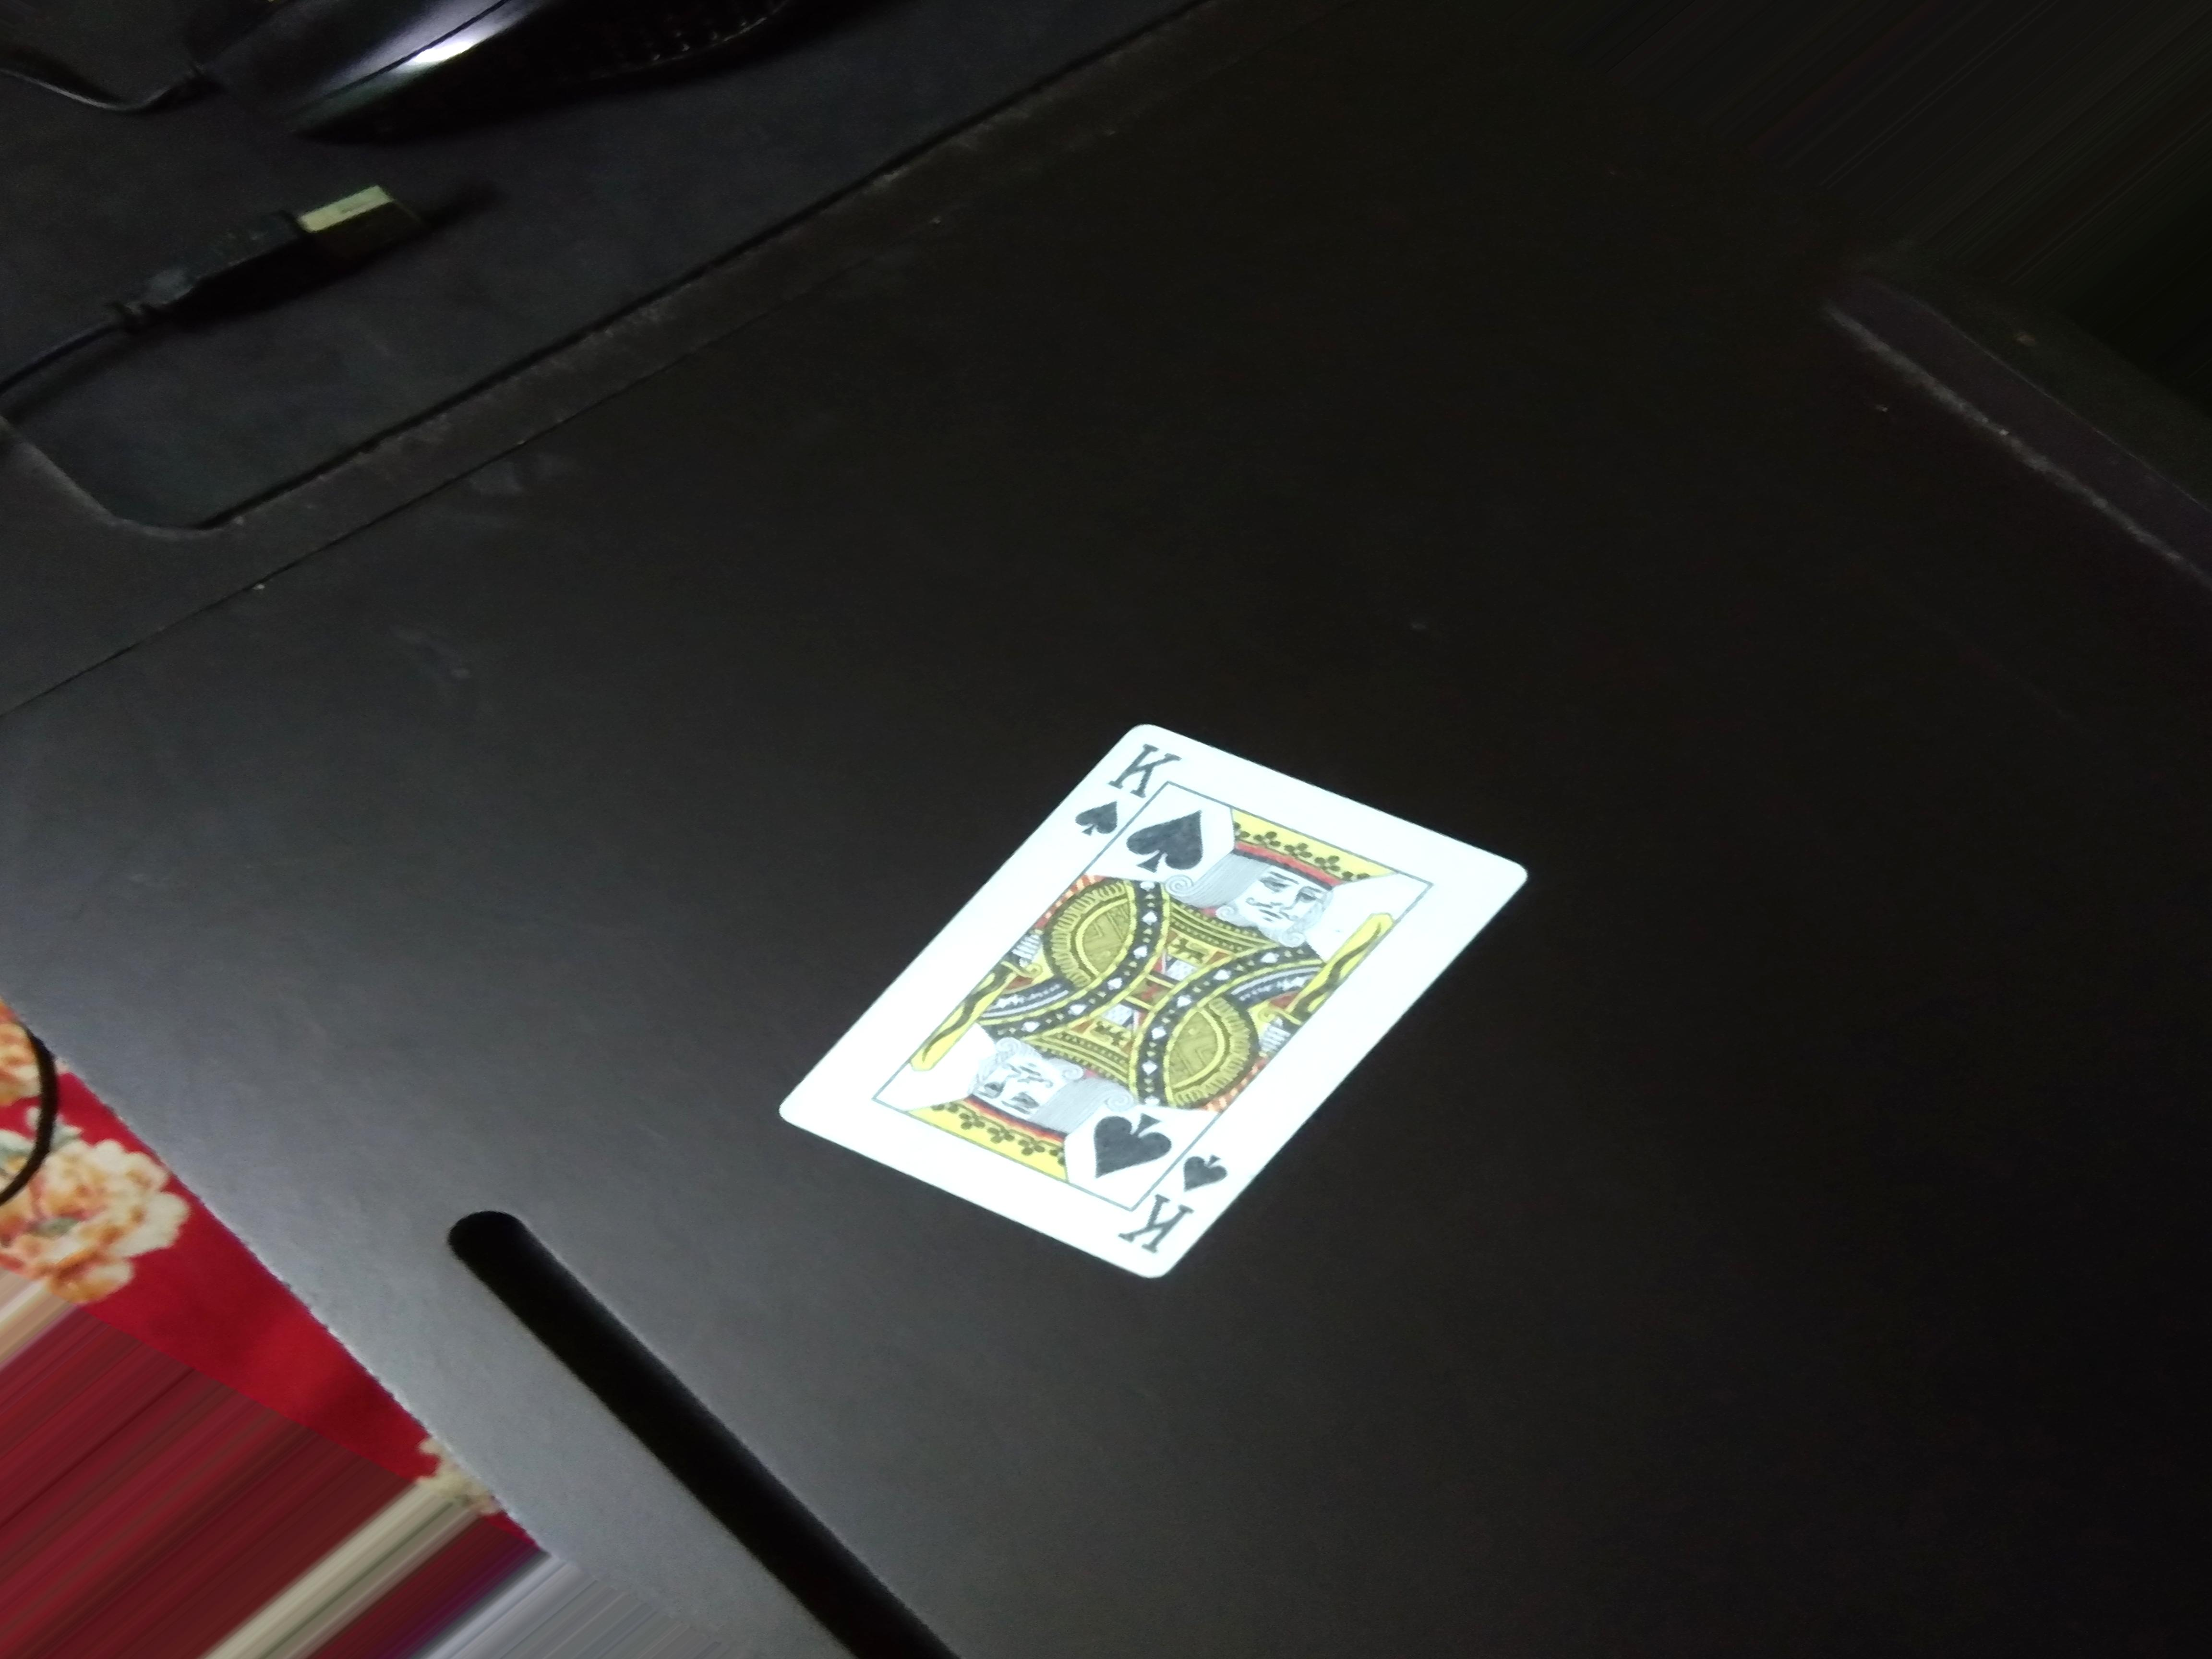KS: (1071, 739, 1181, 847)
